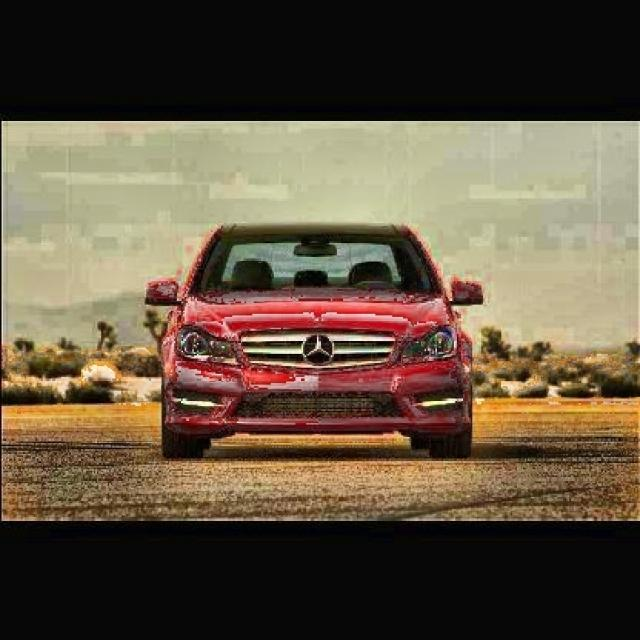maroon: (148, 216, 486, 456)
